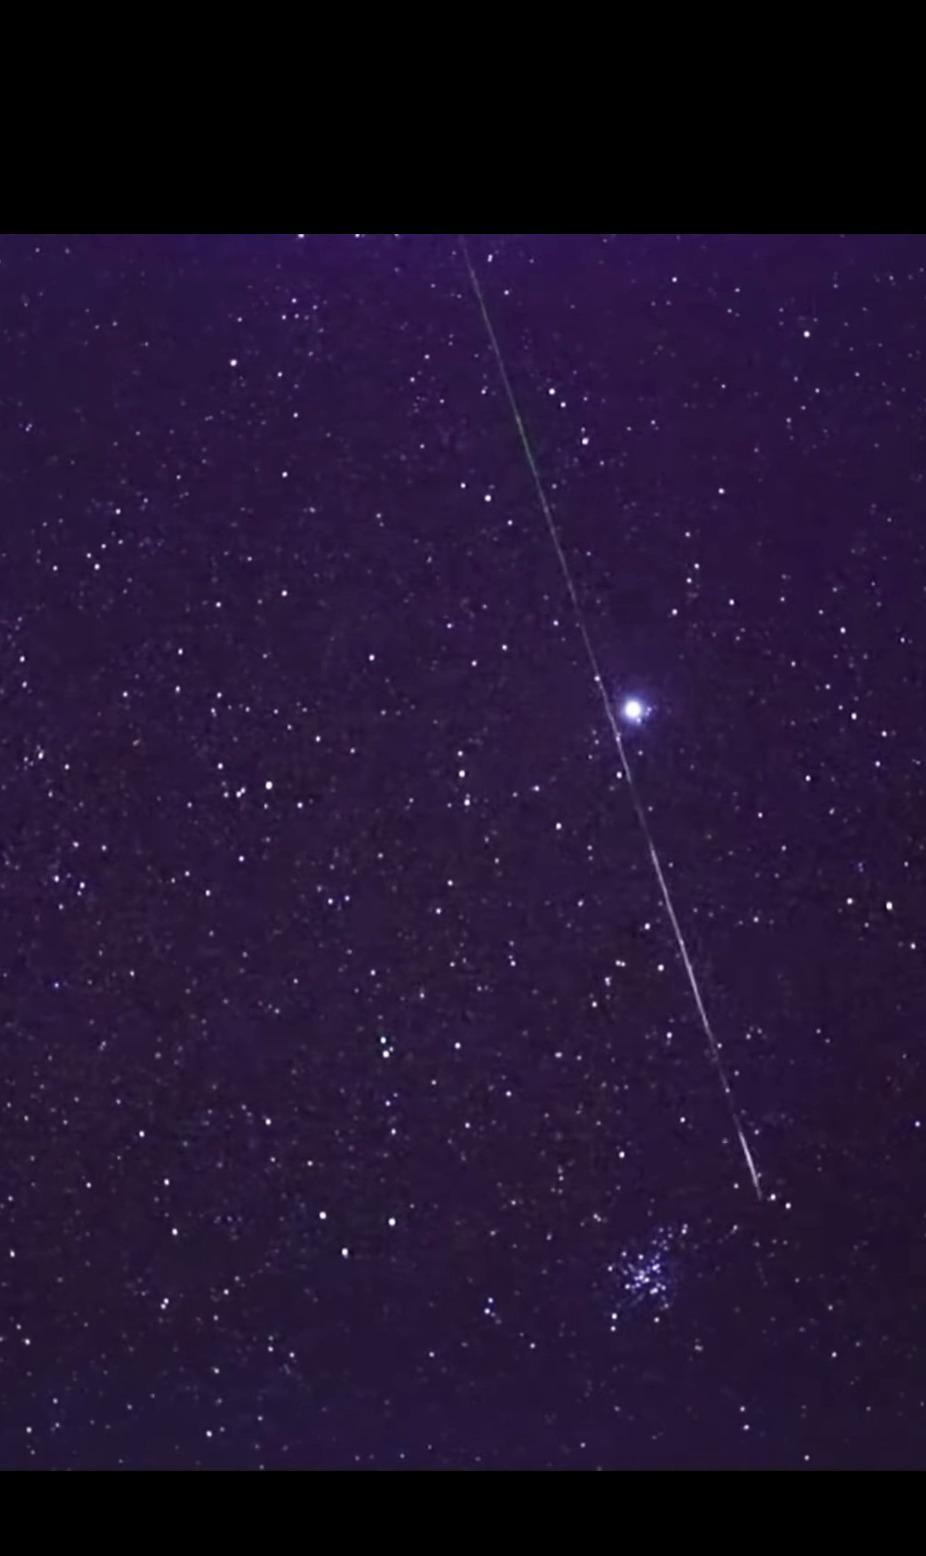meteorite: (597, 784, 778, 1213)
